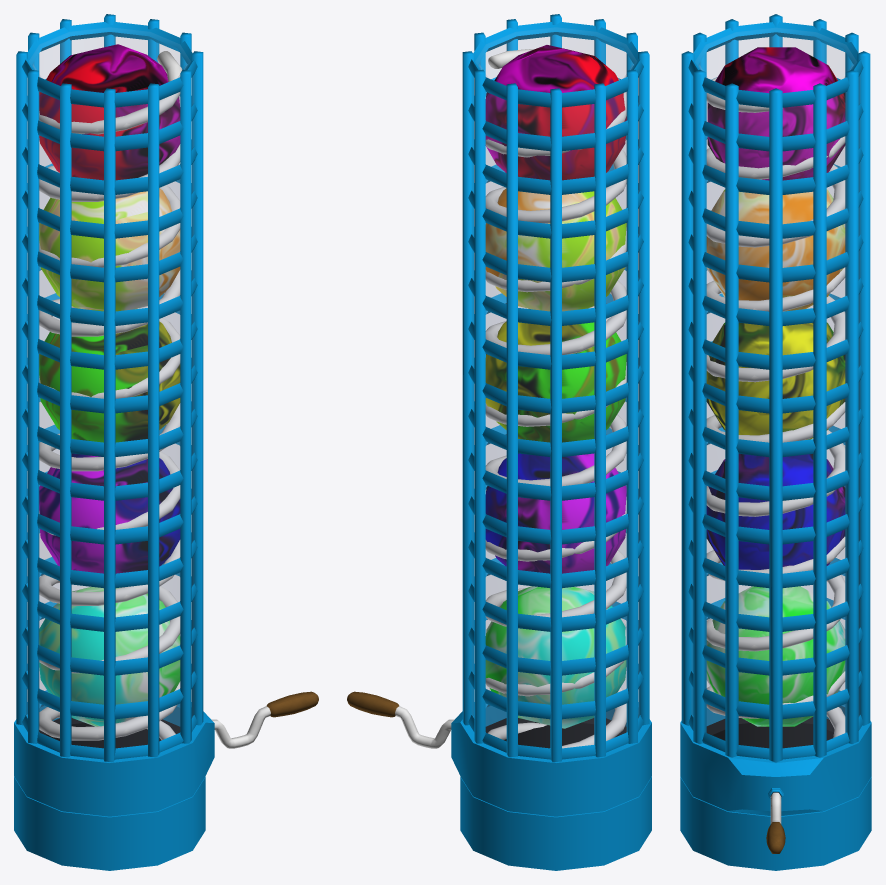
The model's file is BallPuzzle.fbx.
3 renders of one model, left to right at view 1: azimuth 30°, elevation 25°; view 2: azimuth 150°, elevation 25°; view 3: azimuth 270°, elevation 25°, orthographic.
Visible parts, largest first — view 1: Container, MeshFrame, Spring, Pink, NastyWater, Storm, Venom, Earth, HandCrank; view 2: Container, MeshFrame, Spring, Pink, NastyWater, Storm, Venom, Earth, HandCrank; view 3: Container, MeshFrame, Spring, Pink, NastyWater, Storm, Venom, Earth, HandCrank.
Part boxes in pixels (x1,y1,x2,y2): Container: (14,22,214,870); MeshFrame: (16,14,203,762); Spring: (39,51,182,740); Pink: (39,44,180,180); NastyWater: (39,587,180,726); Storm: (39,453,180,573); Venom: (39,309,180,442); Earth: (39,188,180,311); HandCrank: (211,691,318,748); Container: (451,22,651,870); MeshFrame: (462,14,649,762); Spring: (485,49,626,748); Pink: (485,45,626,180); NastyWater: (485,586,626,728); Storm: (485,453,626,573); Venom: (485,309,626,442); Earth: (485,188,626,311); HandCrank: (347,691,454,748); Container: (680,22,871,870); MeshFrame: (681,14,870,762); Spring: (706,77,845,737); Pink: (707,47,845,180); NastyWater: (706,586,845,726); Storm: (706,454,845,569); Venom: (706,322,845,439); Earth: (706,189,845,311); HandCrank: (766,792,785,853).
Bounding box in the file's own units: 180 × 461 × 103.
Materials: 10 (6 with a texture image).
